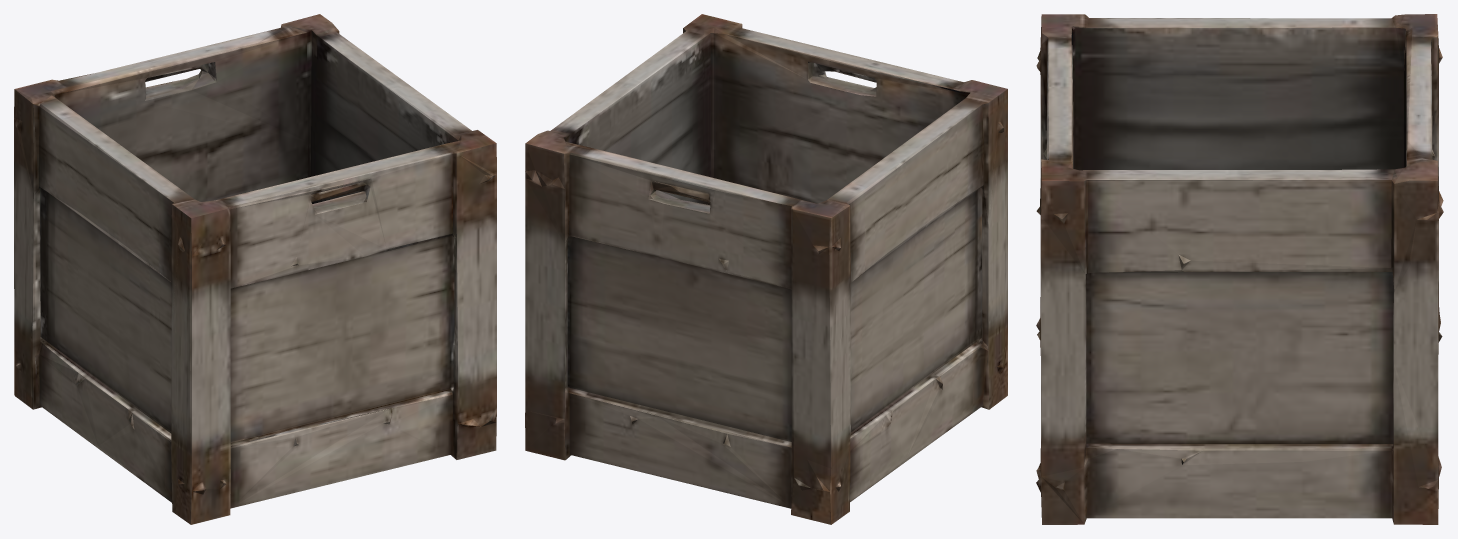
File: crate_planks_lod0.glb
3 renders of one model, left to right at view 1: azimuth 30°, elevation 25°; view 2: azimuth 150°, elevation 25°; view 3: azimuth 270°, elevation 25°, orthographic. The views are drawn at different scales.
Visible parts, largest first — view 1: crate_planks_lod0; view 2: crate_planks_lod0; view 3: crate_planks_lod0.
Part boxes in pixels (x1,y1,x2,y2): crate_planks_lod0: (14, 14, 496, 524); crate_planks_lod0: (525, 14, 1007, 524); crate_planks_lod0: (1036, 14, 1443, 524).
Bounding box in the file's own units: 0.7938 × 0.7428 × 0.7947.
Materials: 1 (1 with a texture image).
